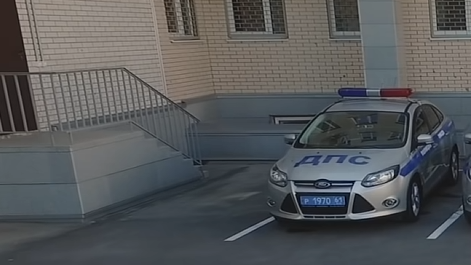police car: (267, 87, 460, 231)
